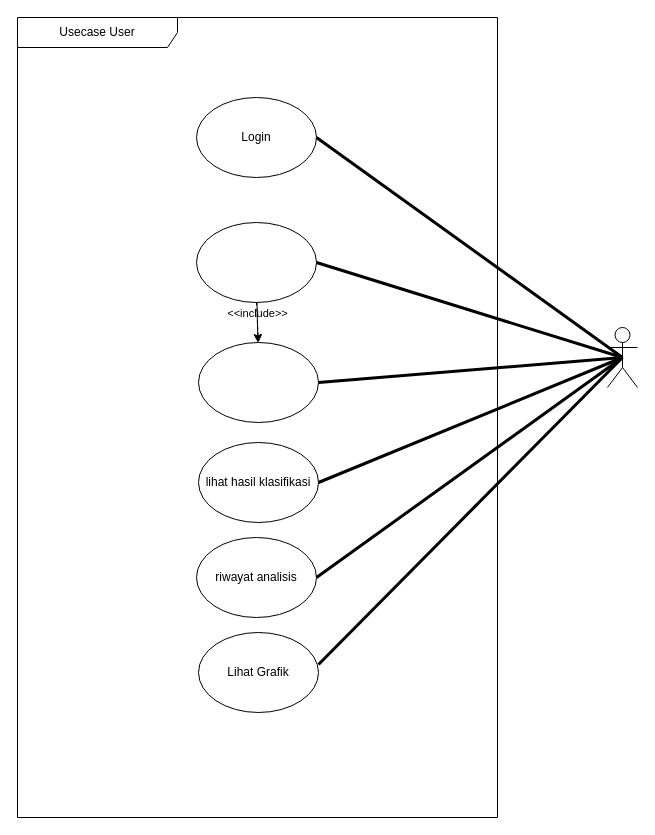
Some shapes in this 655 by 835 pixel diagram are drawn without their labels. The shapes that lost their labels are listed below. From the top down, each one's centre as x and y in pixels, then its label:
At point (256, 262): "Unggah gambar".
At point (622, 357): "User".
At point (258, 382): "Scan Daun".
